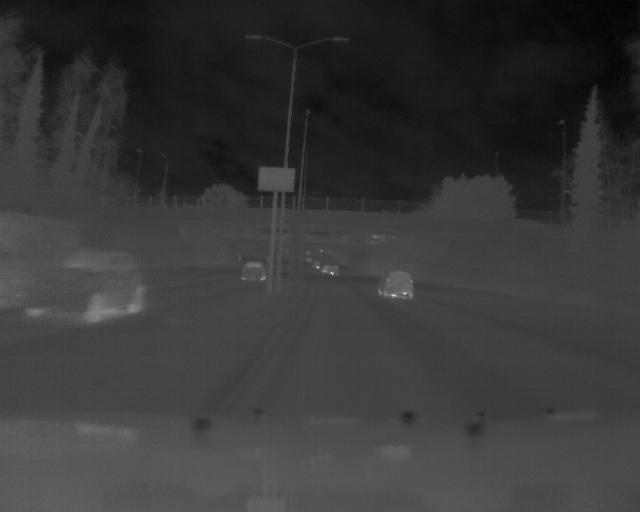car: (35, 236, 148, 333), (377, 265, 417, 303), (241, 250, 267, 291)
